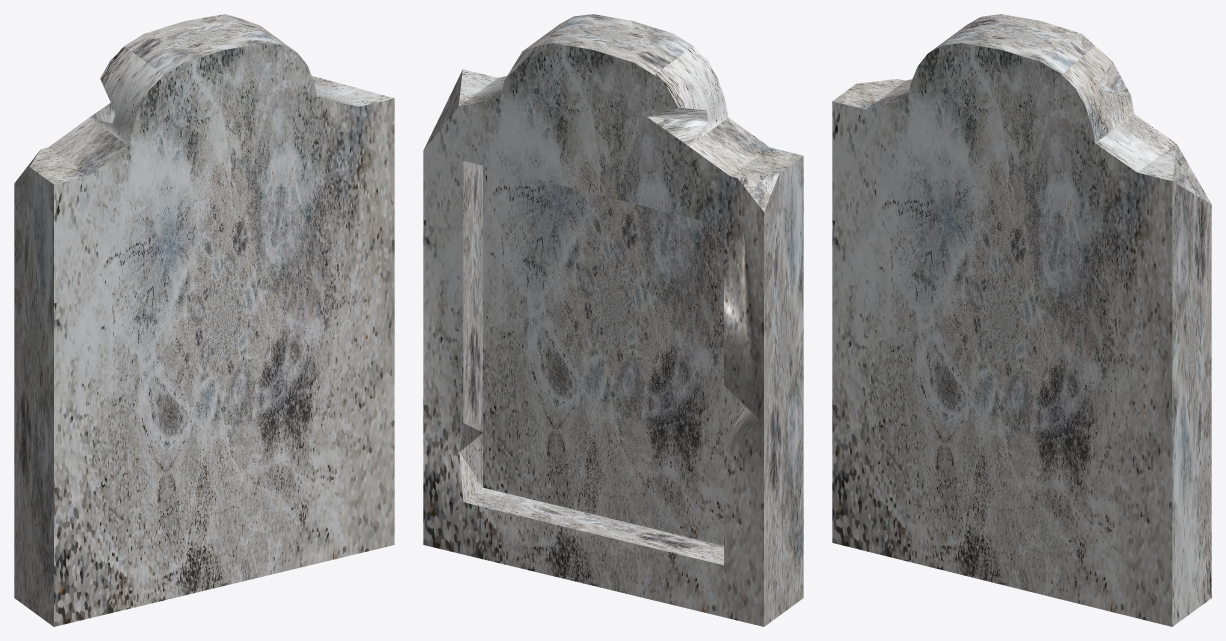
File: tombstone.FBX
3 renders of one model, left to right at view 1: azimuth 30°, elevation 25°; view 2: azimuth 150°, elevation 25°; view 3: azimuth 330°, elevation 25°, orthographic.
Visible parts, largest first — view 1: Line001; view 2: Line001; view 3: Line001.
Boxes of the visible parts, x1,y1,x2,y2 form: Line001: (14, 14, 394, 626); Line001: (423, 14, 803, 626); Line001: (832, 14, 1211, 626).
Size of the model in its own units: 19.91 by 29.95 by 4.
Materials: 1 (1 with a texture image).
